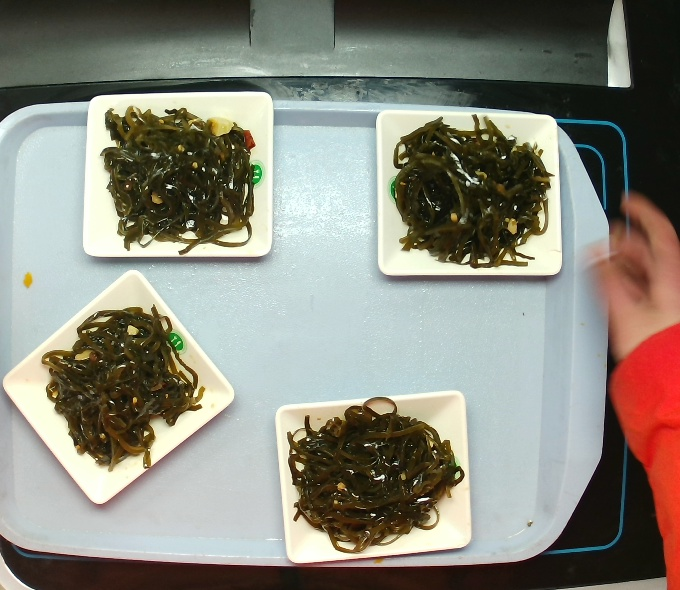wcq-LiangBanHaiDai: (84, 97, 278, 253), (35, 306, 208, 471), (386, 108, 559, 269), (293, 395, 452, 551)
